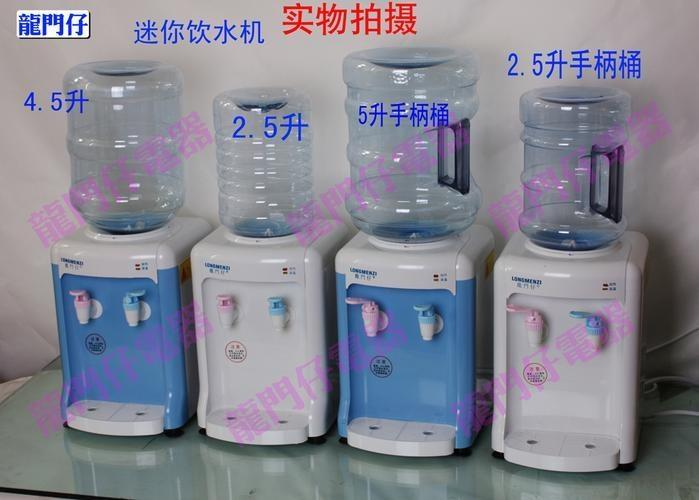Dispenser: (332, 44, 491, 456), (490, 85, 650, 472), (48, 59, 195, 438), (189, 85, 337, 443)
